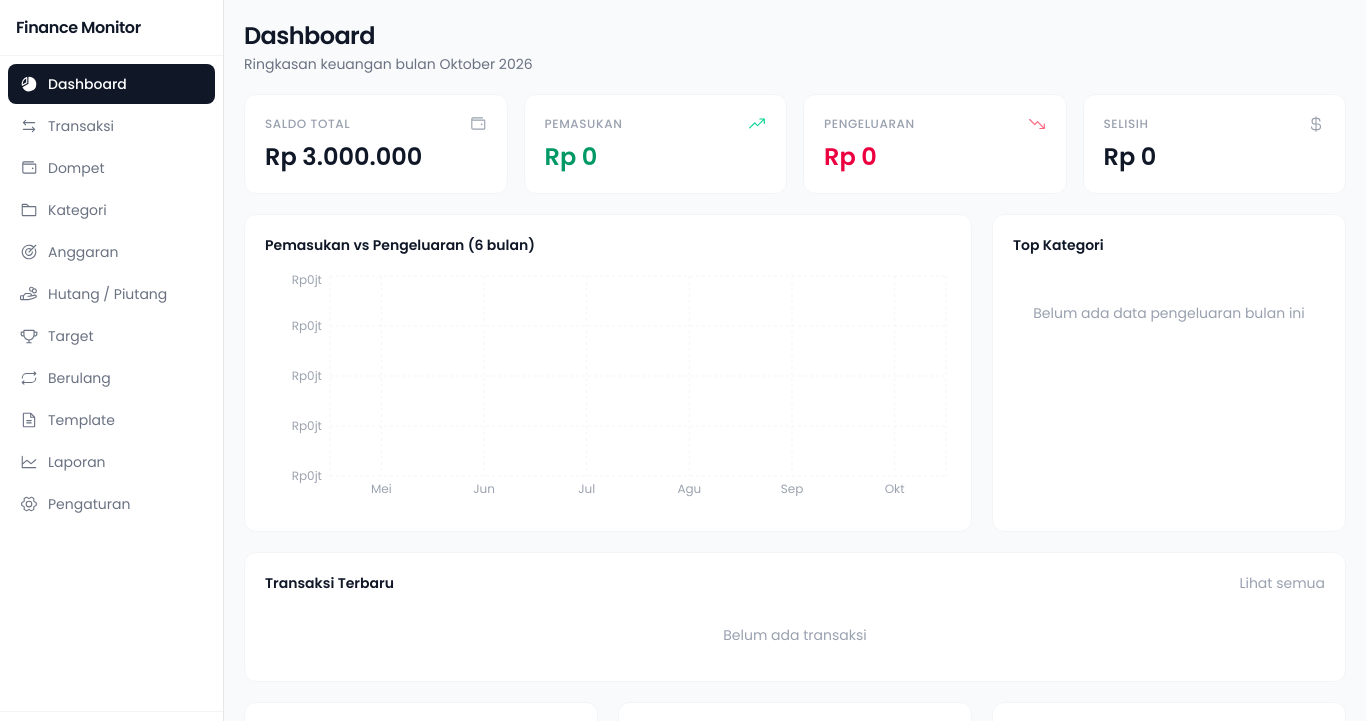
Test: Full App Flow › navigasi dari Dashboard ke Dompet dan melihat data
Step 1. Click the link "Dompet" → (62, 168), box x1=20 y1=158 x2=104 y2=178
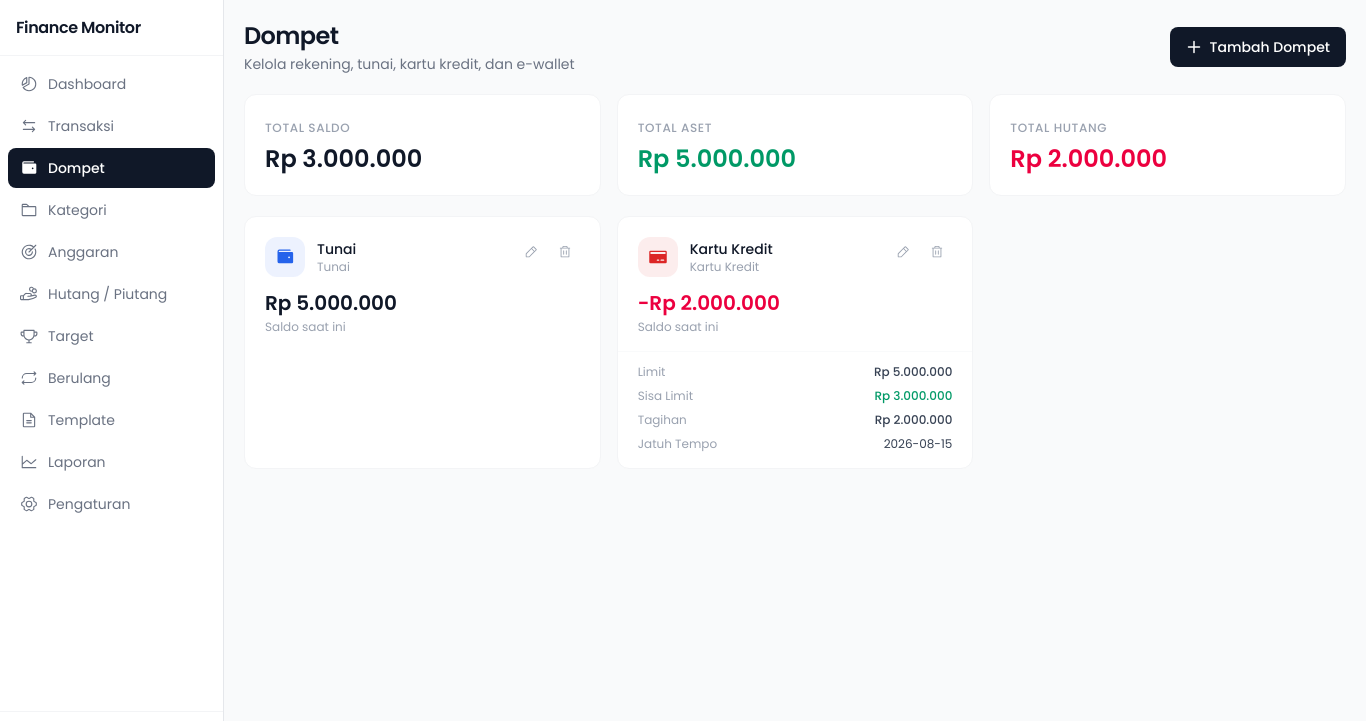
expect the text "Total Saldo" is shown: met, box x1=265 y1=119 x2=350 y2=136
expect the text "Total Aset" is shown: met, box x1=638 y1=119 x2=712 y2=136
expect the text "Total Hutang" is shown: met, box x1=1010 y1=119 x2=1107 y2=136
